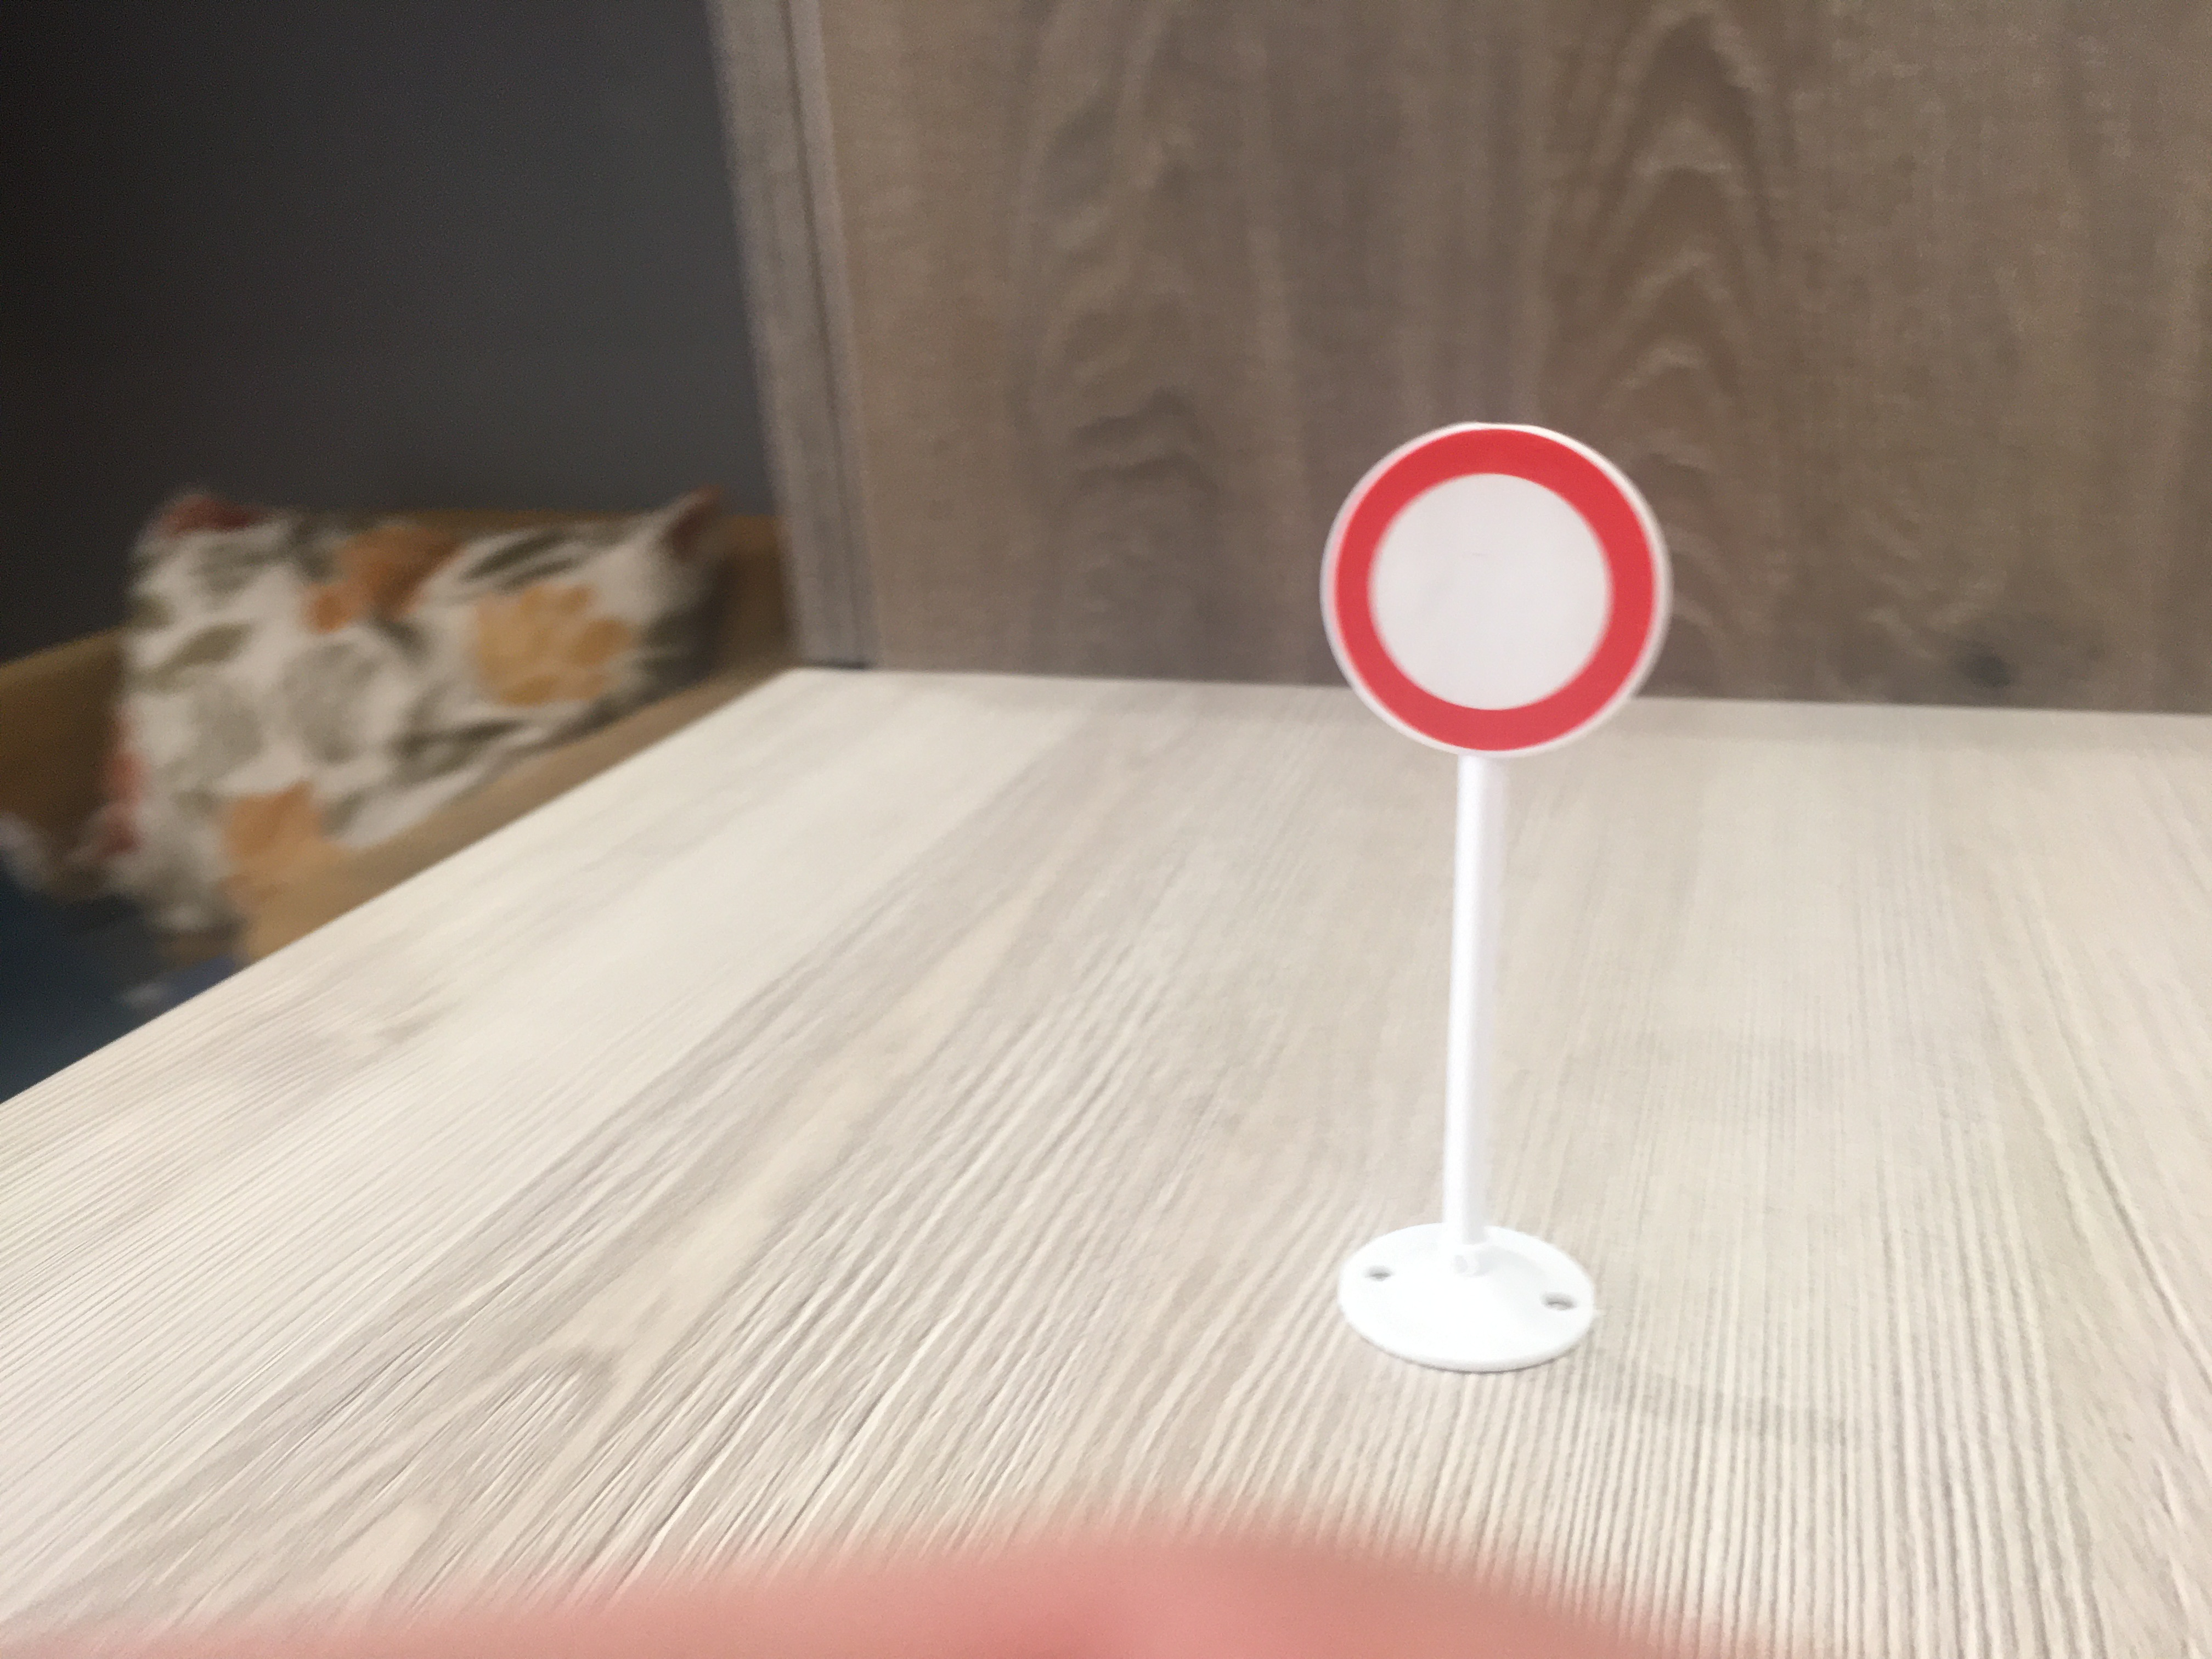noDrive: (1317, 427, 1674, 758)
